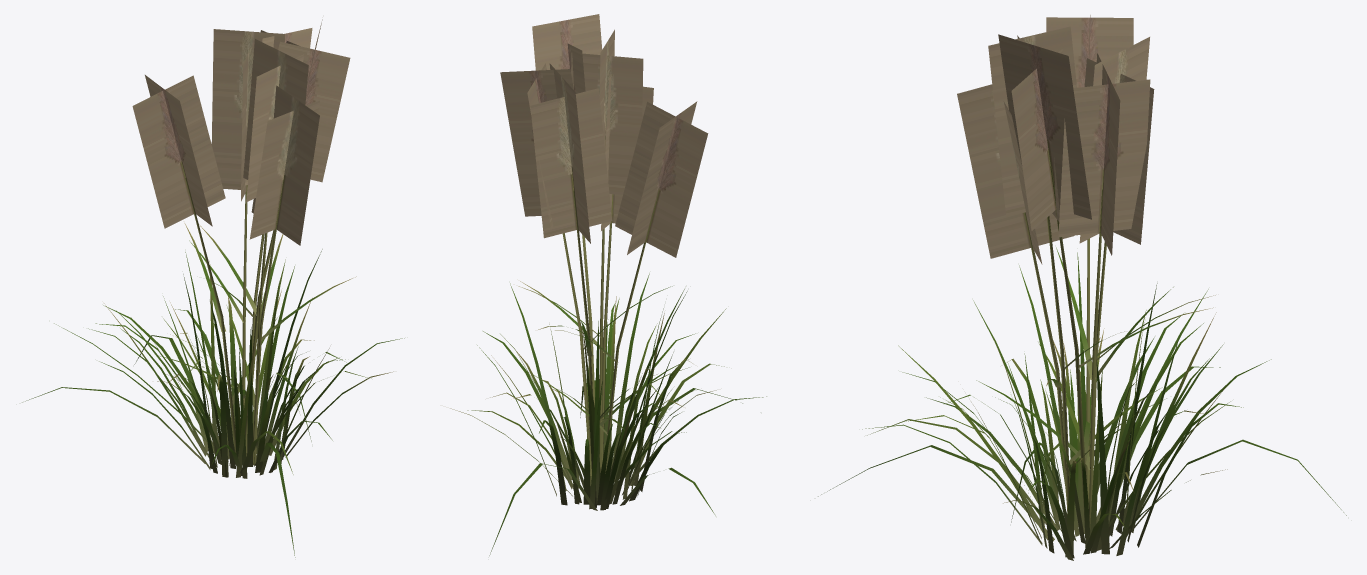
The model's file is reeds.glb.
3 renders of one model, left to right at view 1: azimuth 30°, elevation 25°; view 2: azimuth 150°, elevation 25°; view 3: azimuth 270°, elevation 25°, orthographic. The views are drawn at different scales.
Parts seen in each view (by area): view 1: reed_plumes, reed_blades; view 2: reed_plumes, reed_blades; view 3: reed_plumes, reed_blades.
Boxes of the visible parts, x1,y1,x2,y2 form: reed_plumes: (132, 19, 350, 245); reed_blades: (22, 178, 404, 557); reed_plumes: (500, 14, 708, 257); reed_blades: (450, 191, 766, 555); reed_plumes: (957, 15, 1154, 264); reed_blades: (818, 166, 1346, 560).
Size of the model in its own units: 1.01 by 1.33 by 1.25.
Materials: 2 (1 with a texture image).
